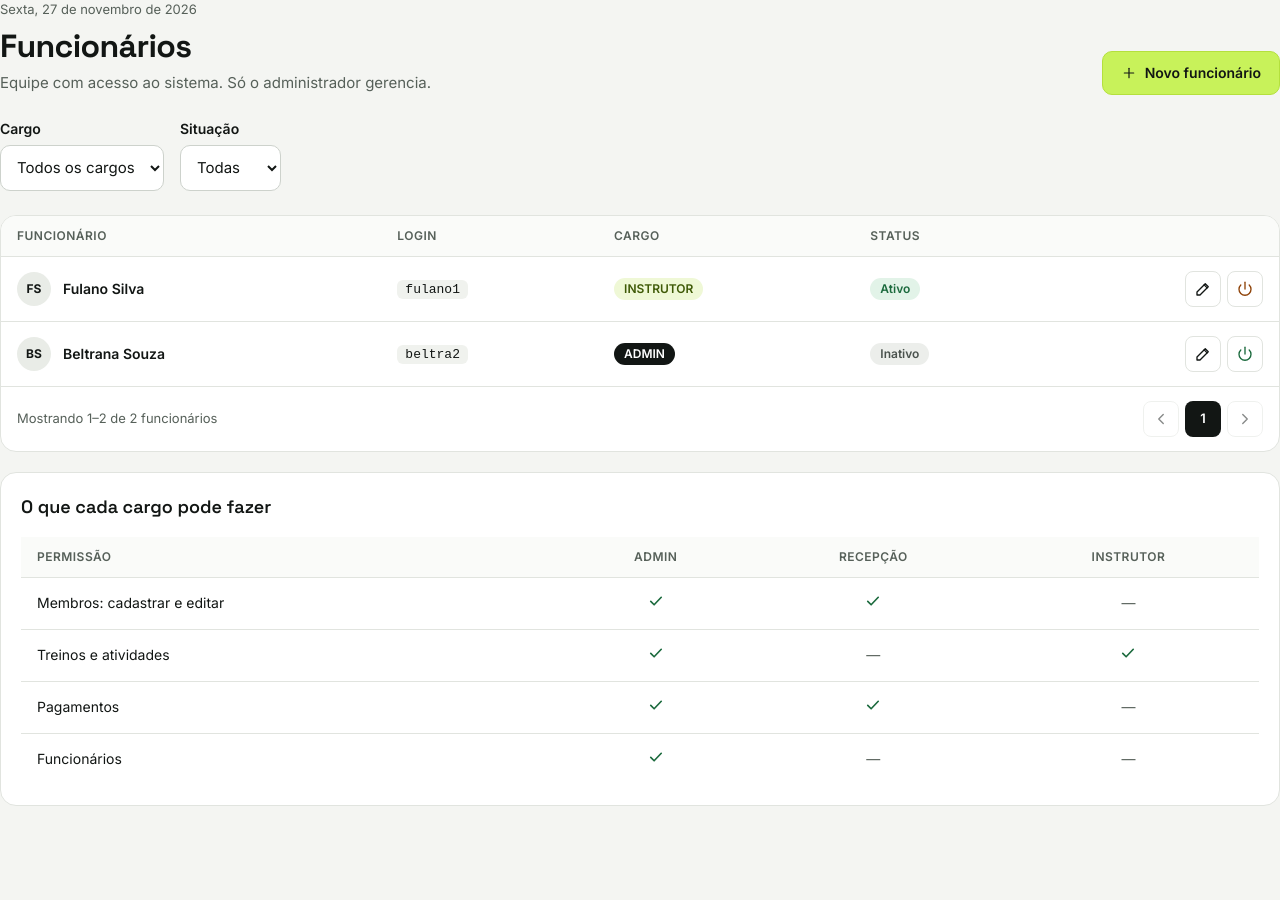
Scenario: TelaFuncionarios › salva um funcionário novo, avisa e recarrega a lista
Expected: the text "Fulano Silva" is shown, [63, 278, 144, 298]
Click the button "Novo funcionário". click: coordinates (1191, 72)
box: [1102, 50, 1279, 94]
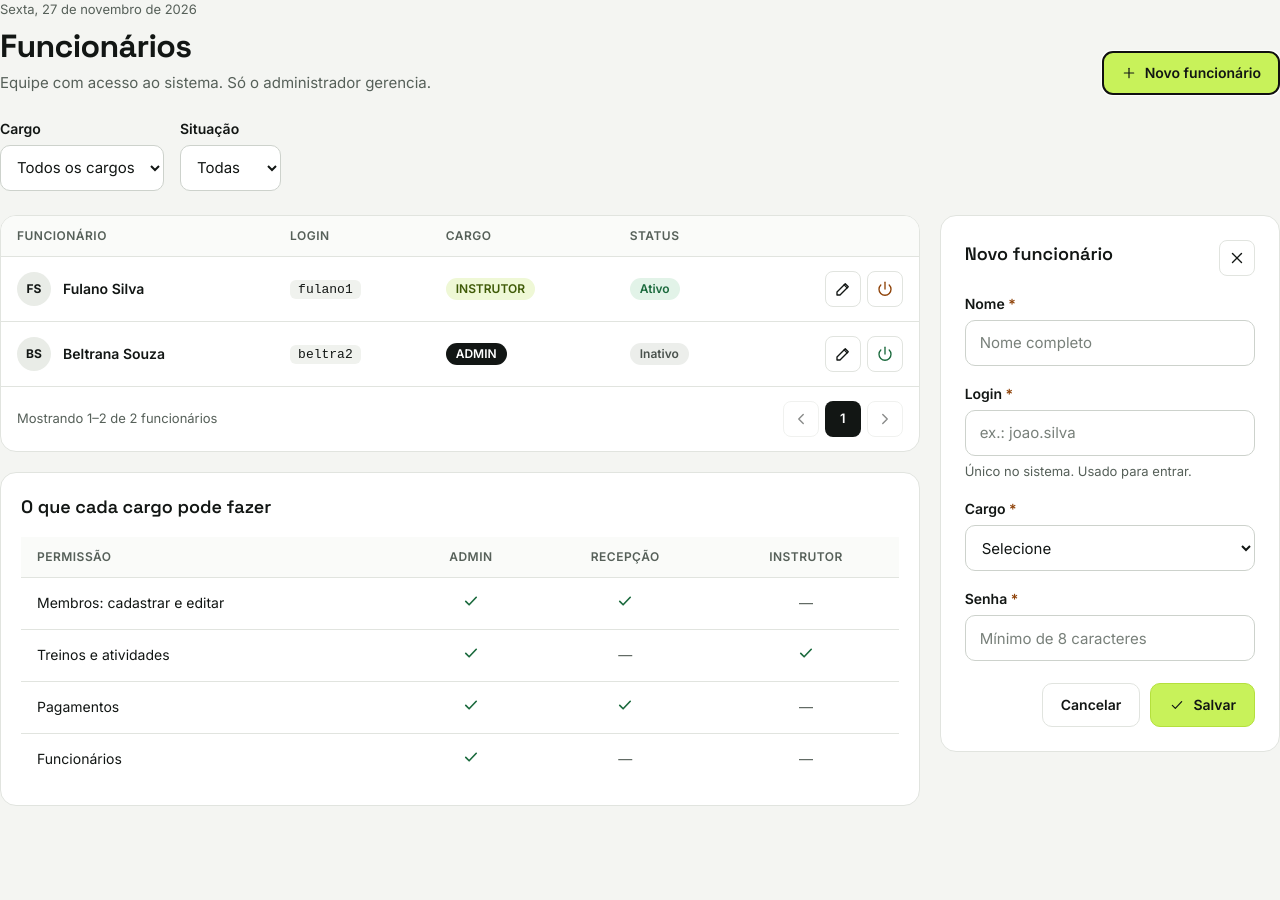
Type "Ana Souza" into the field labelled "Nome". click: coordinates (1110, 342)
box: [965, 320, 1255, 366]
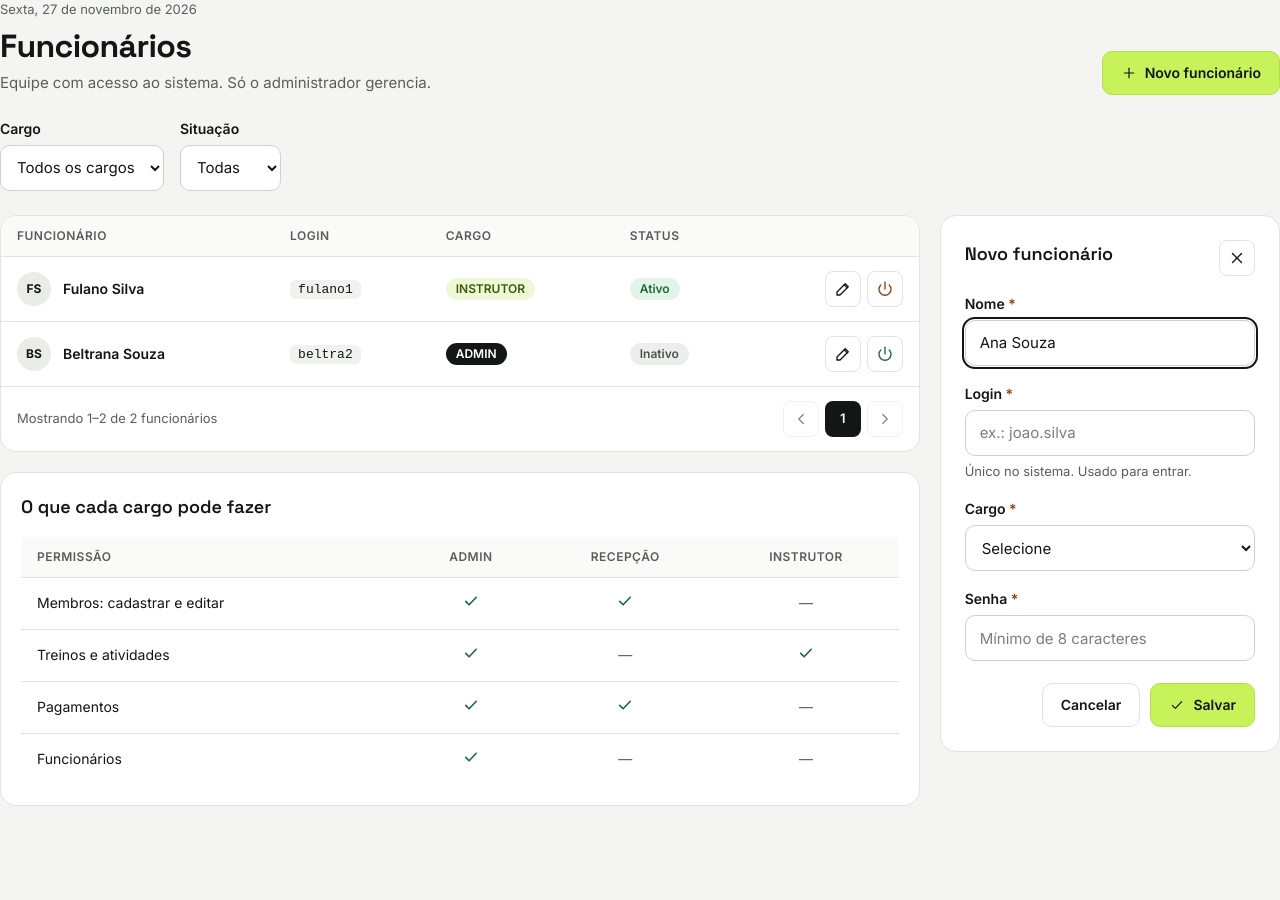
Type "ana01" into the field labelled "Login". click: coordinates (1110, 432)
box: [965, 410, 1255, 456]
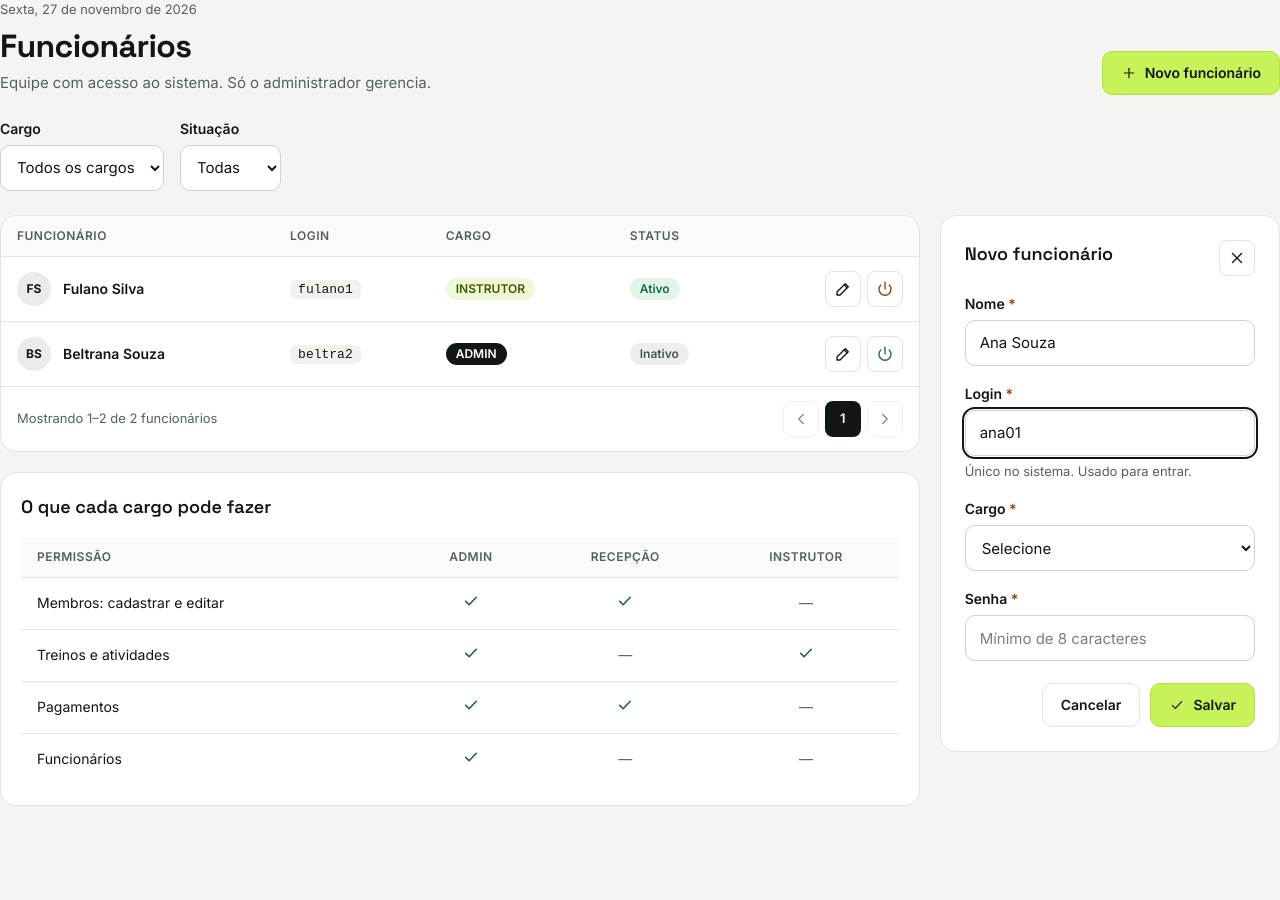
Select "Administrador" in the dropdown labelled "Cargo" below "Único no sistema. Usado para entrar.". click: coordinates (1110, 548)
box: [965, 525, 1255, 571]
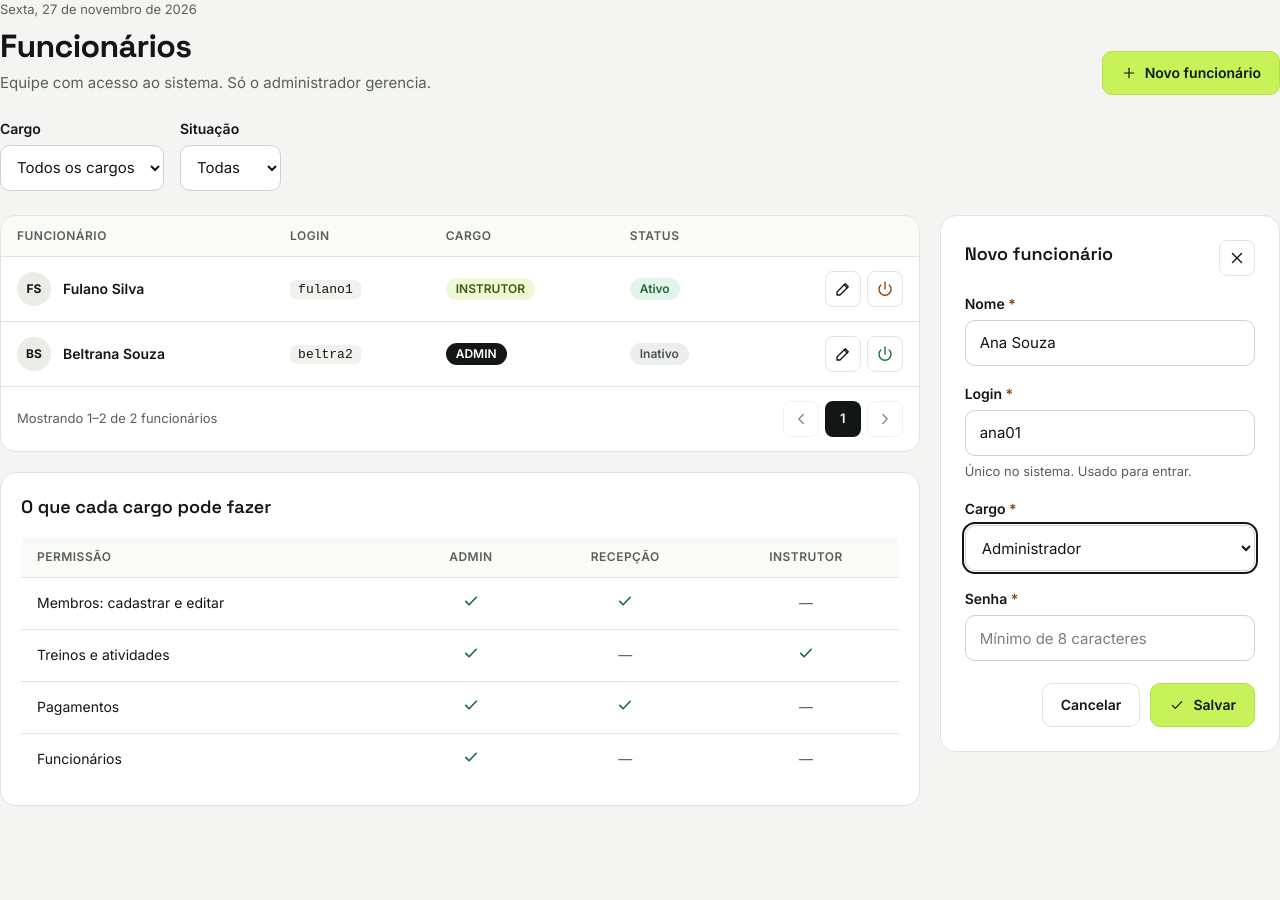
Type "senha1234" into the password field labelled "Senha". click: coordinates (1110, 638)
box: [965, 615, 1255, 661]
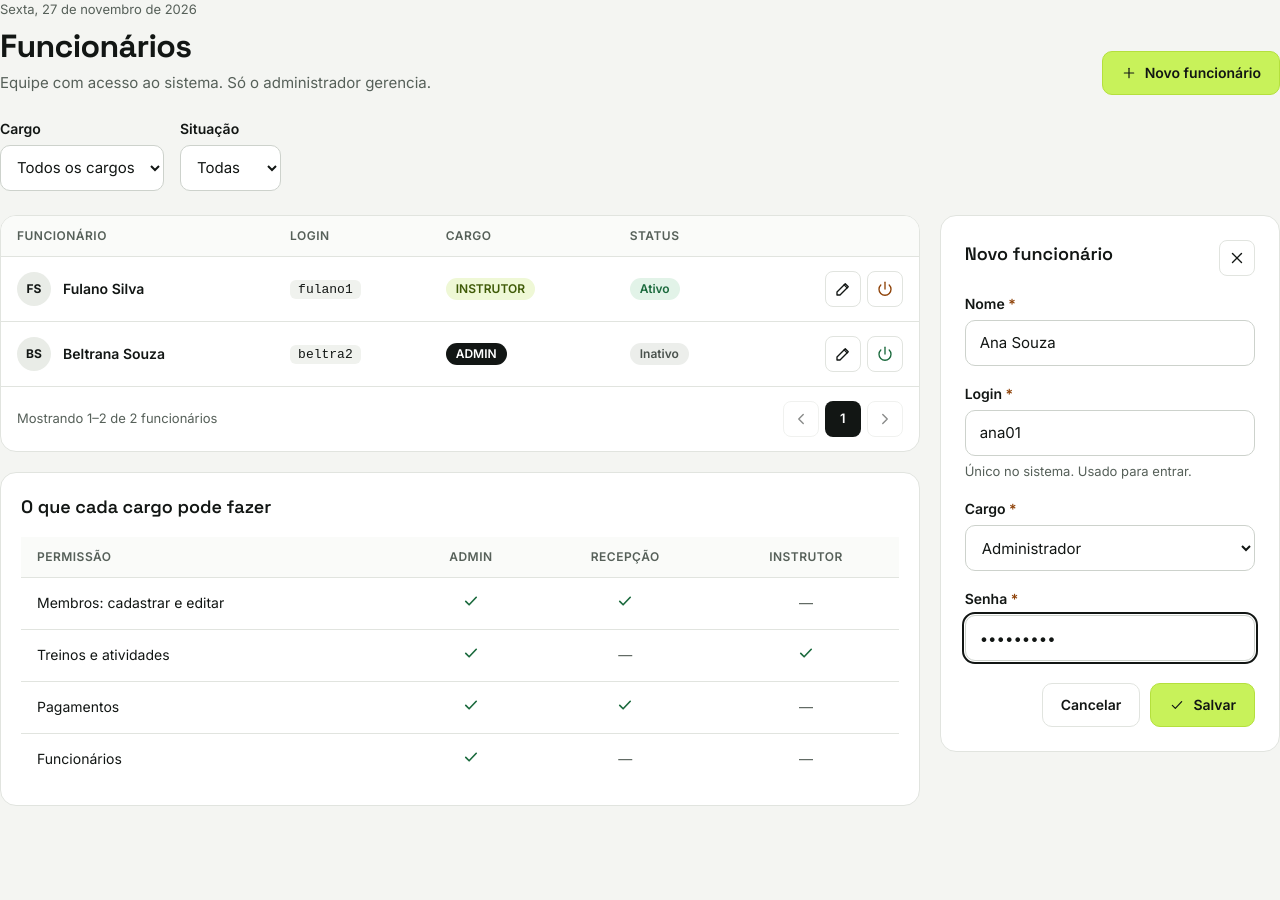
Click the button "Salvar". click: coordinates (1203, 705)
box: [1150, 683, 1255, 727]
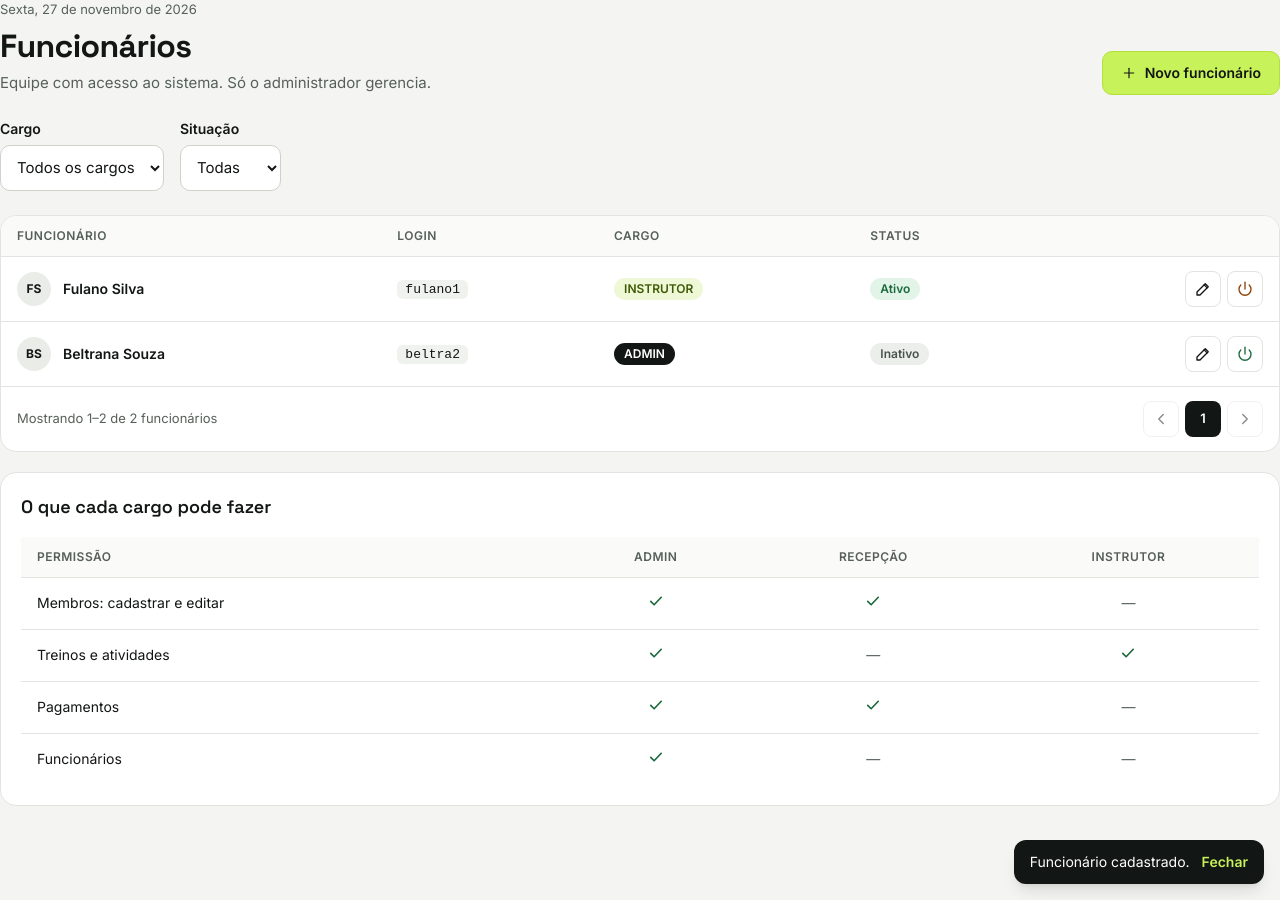
Expected: the text "Funcionário cadastrado." is shown, [1030, 852, 1190, 872]
Expected: the dialog is gone
